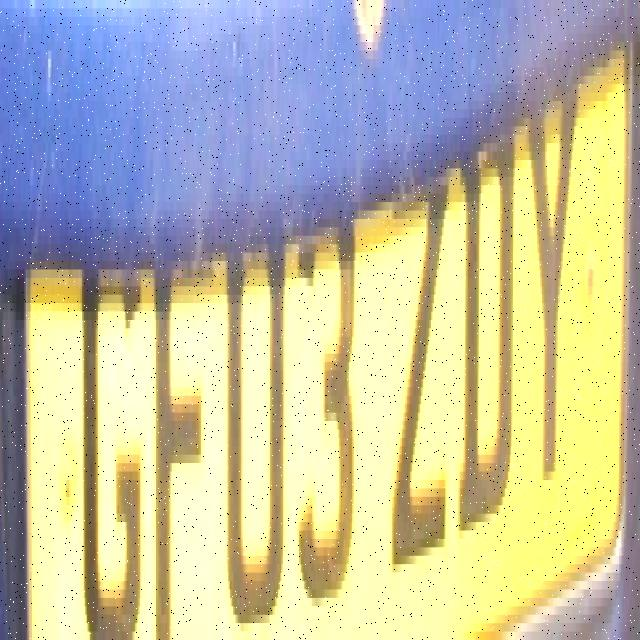licenseplate: (18, 66, 622, 640)
